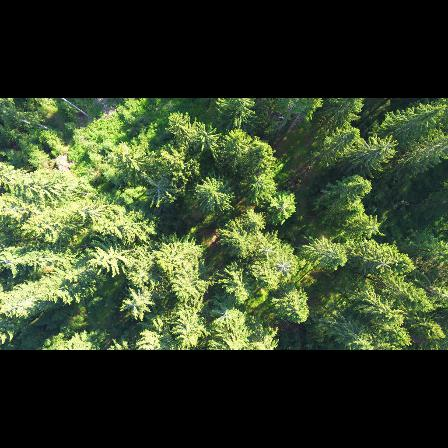Sick: (142, 171, 174, 208), (273, 258, 295, 275), (256, 242, 275, 259)
